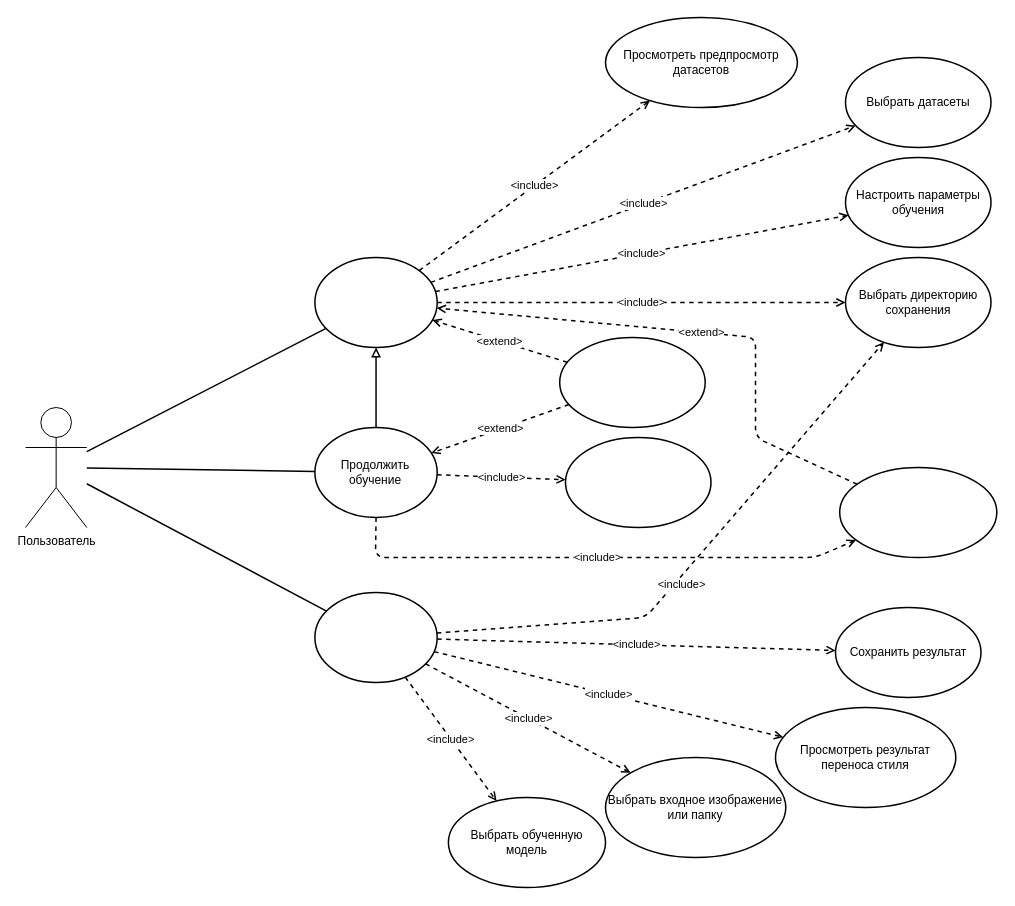
Some shapes in this 1015 by 906 pixel diagram are drawn without their labels. The box of each missing label's shape, as (x1, y1, x2, y2) in pixels:
Выбрать checkpoint: (564, 436, 711, 528)
Выполнить инференс: (314, 591, 438, 683)
Обучить модель: (314, 256, 438, 348)
Остановить обучение: (558, 336, 706, 428)
Просмотреть лог выполнения: (838, 466, 997, 558)
